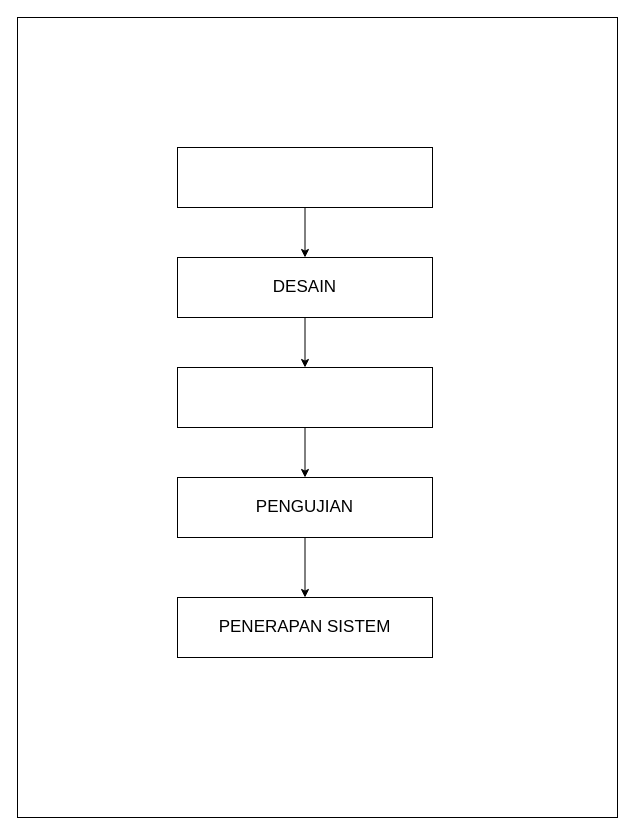
The diagram is 635 pixels wide and 835 high, and some of its shapes have lost their labels. Each missing label, with the box of its shape:
ANALISIS KEBUTUHAN: (176, 146, 432, 208)
IMPLEMENTASI: (176, 366, 432, 428)
